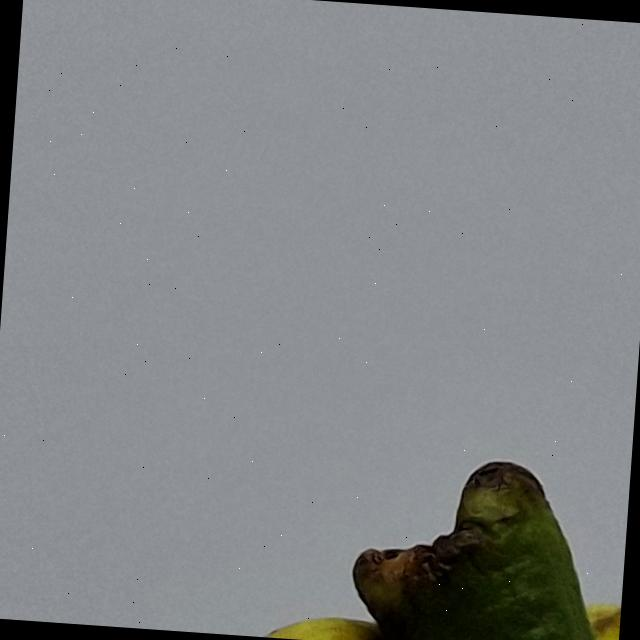mangosteen: (0, 382, 633, 640)
